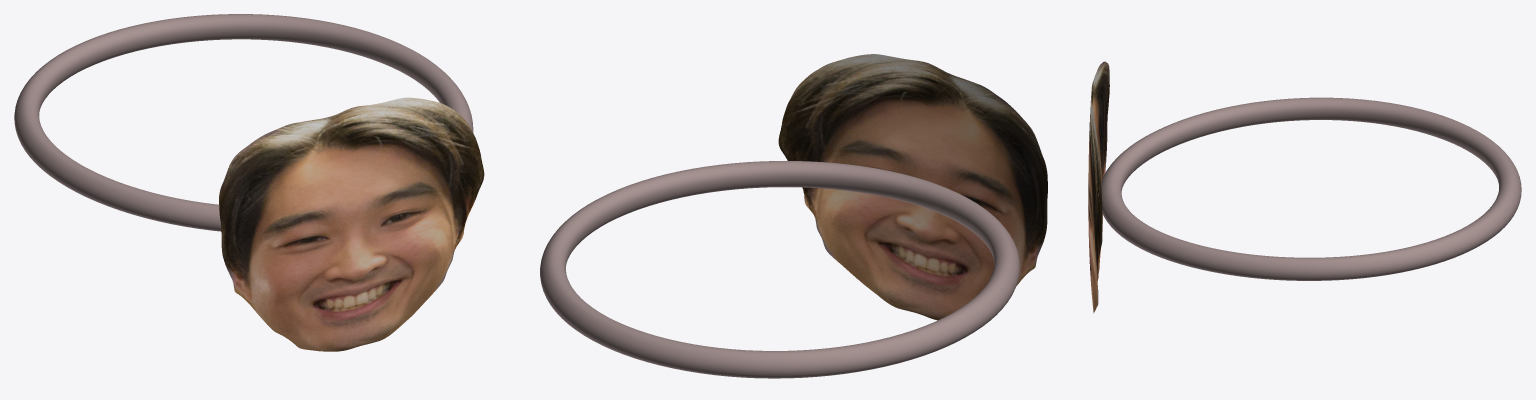
The picture shows the model from 3 angles, left to right: view 1: azimuth 30°, elevation 25°; view 2: azimuth 150°, elevation 25°; view 3: azimuth 270°, elevation 25°; orthographic projection. The views are drawn at different scales.
Parts seen in each view (by area): view 1: Charakter.001, Charakter.002; view 2: Charakter.001, Charakter.002; view 3: Charakter.002, Charakter.001.
Boxes of the visible parts, bbox=[...] form: Charakter.001: bbox=[219, 97, 484, 351]; Charakter.002: bbox=[14, 14, 473, 231]; Charakter.001: bbox=[778, 54, 1047, 320]; Charakter.002: bbox=[540, 161, 1019, 378]; Charakter.002: bbox=[1101, 97, 1521, 280]; Charakter.001: bbox=[1088, 61, 1109, 313].
Size of the model in its own units: 100 by 71.33 by 108.
